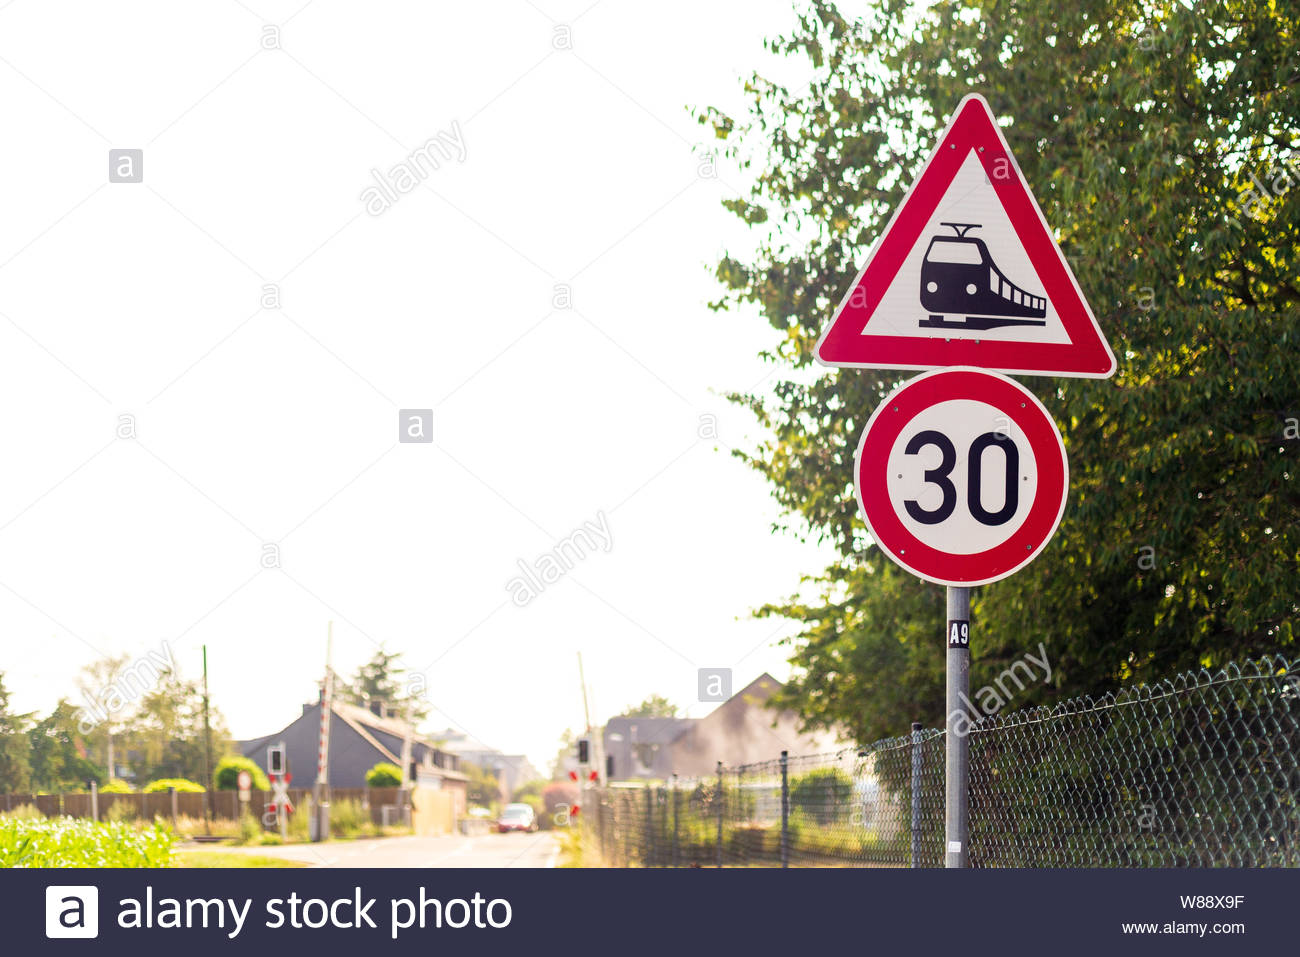speed_limit_30: (852, 366, 1071, 586)
